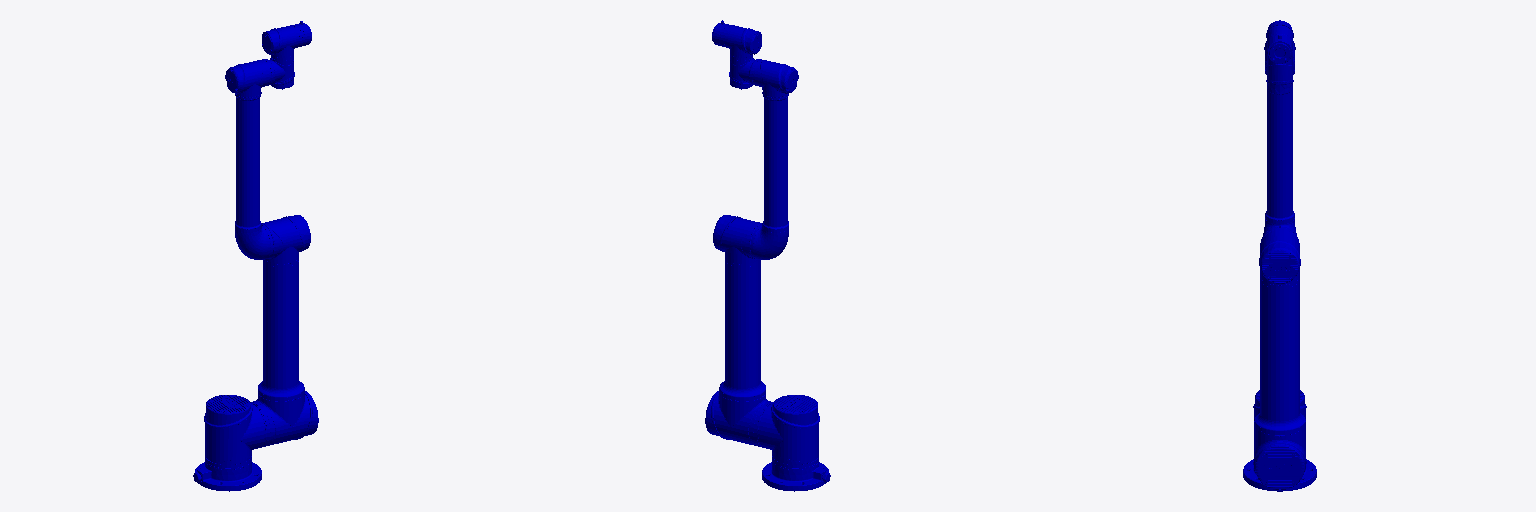
The robot description file, URDF, robot "aubo_i10":
<?xml version="1.0"?>
<robot name="aubo_i10">

  <material name="blue">
    <color rgba="0 0 0.8 1"/>
  </material>
  
  <!-- BASE -->
  <link name="base">
    <visual>
      <geometry>
        <mesh filename="package://aubo_i10_description/meshes/I10_Base.stl"/>
      </geometry>
      <material name="blue"/>
    </visual>
    <collision>
      <geometry>
        <mesh filename="package://aubo_i10_description/meshes/I10_Base.stl"/>
      </geometry>
    </collision>
  </link>

  <!-- JOINT 1 -->
  <joint name="joint1" type="revolute">
    <parent link="base"/>
    <child link="joint1_link"/>
    <origin xyz="0 0 0.05" rpy="0 0 0"/>
    <axis xyz="0 0 1"/>
    <limit lower="-3.054" upper="3.054" velocity="2.618"/>
  </joint>

  <link name="joint1_link">
    <visual>
      <geometry>
        <mesh filename="package://aubo_i10_description/meshes/I10_Joint_1.stl"/>
      </geometry>
      <material name="blue"/>
    </visual>
    <collision>
      <geometry>
        <mesh filename="package://aubo_i10_description/meshes/I10_Joint_1.stl"/>
      </geometry>
    </collision>
  </link>

  <!-- JOINT 2 -->
  <joint name="joint2" type="revolute">
    <parent link="joint1_link"/>
    <child link="joint2_link"/>
    <origin xyz="0 0 0.40" rpy="0 0 0"/>
    <axis xyz="0 1 0"/>
    <limit lower="-3.054" upper="3.054" velocity="3.142"/>
  </joint>

  <link name="joint2_link">
    <visual>
      <geometry>
        <mesh filename="package://aubo_i10_description/meshes/I10_Joint_2.stl"/>
      </geometry>
      <material name="blue"/>
    </visual>
    <collision>
      <geometry>
        <mesh filename="package://aubo_i10_description/meshes/I10_Joint_2.stl"/>
      </geometry>
    </collision>
  </link>

  <!-- JOINT 3 -->
  <joint name="joint3" type="revolute">
    <parent link="joint2_link"/>
    <child link="joint3_link"/>
    <origin xyz="0 0 0.30" rpy="0 0 0"/>
    <axis xyz="0 1 0"/>
    <limit lower="-3.054" upper="3.054" velocity="2.618"/>
  </joint>

  <link name="joint3_link">
    <visual>
      <geometry>
        <mesh filename="package://aubo_i10_description/meshes/I10_Joint_3.stl"/>
      </geometry>
      <material name="blue"/>
    </visual>
    <collision>
      <geometry>
        <mesh filename="package://aubo_i10_description/meshes/I10_Joint_3.stl"/>
      </geometry>
    </collision>
  </link>

  <!-- JOINT 4 -->
  <joint name="joint4" type="revolute">
    <parent link="joint3_link"/>
    <child link="joint4_link"/>
    <origin xyz="0 0 0.25" rpy="0 0 0"/>
    <axis xyz="1 0 0"/>
    <limit lower="-3.054" upper="3.054" velocity="3.142"/>
  </joint>

  <link name="joint4_link">
    <visual>
      <geometry>
        <mesh filename="package://aubo_i10_description/meshes/I10_Joint_4.stl"/>
      </geometry>
      <material name="blue"/>
    </visual>
    <collision>
      <geometry>
        <mesh filename="package://aubo_i10_description/meshes/I10_Joint_4.stl"/>
      </geometry>
    </collision>
  </link>

  <!-- JOINT 5 -->
  <joint name="joint5" type="revolute">
    <parent link="joint4_link"/>
    <child link="joint5_link"/>
    <origin xyz="0 0 0.20" rpy="0 0 0"/>
    <axis xyz="0 1 0"/>
    <limit lower="-3.054" upper="3.054" velocity="3.142"/>
  </joint>

  <link name="joint5_link">
    <visual>
      <geometry>
        <mesh filename="package://aubo_i10_description/meshes/I10_Joint_5.stl"/>
      </geometry>
      <material name="blue"/>
    </visual>
    <collision>
      <geometry>
        <mesh filename="package://aubo_i10_description/meshes/I10_Joint_5.stl"/>
      </geometry>
    </collision>
  </link>

  <!-- JOINT 6 -->
  <joint name="joint6" type="revolute">
    <parent link="joint5_link"/>
    <child link="joint6_link"/>
    <origin xyz="0 0 0.15" rpy="0 0 0"/>
    <axis xyz="1 0 0"/>
    <limit lower="-3.054" upper="3.054" velocity="3.142"/>
  </joint>

  <link name="joint6_link">
    <visual>
      <geometry>
        <mesh filename="package://aubo_i10_description/meshes/I10_Joint_6.stl"/>
      </geometry>
      <material name="blue"/>
    </visual>
    <collision>
      <geometry>
        <mesh filename="package://aubo_i10_description/meshes/I10_Joint_6.stl"/>
      </geometry>
    </collision>
  </link>

</robot>

--- What the picture shows (computed from the rendered views, not written in the file) ---
The picture shows the robot from 3 angles, left to right: view 1: azimuth 30°, elevation 25°; view 2: azimuth 150°, elevation 25°; view 3: azimuth 270°, elevation 25°; orthographic projection.
Model aubo_i10 with 7 links and 6 joints (6 revolute), rooted at base, posed every joint at zero.
Links seen in each view (by area): view 1: joint2_link, joint3_link, joint1_link, base, joint5_link, joint4_link; view 2: joint2_link, joint3_link, joint1_link, base, joint5_link, joint4_link; view 3: joint2_link, joint3_link, joint4_link, base, joint6_link.
Link boxes in pixels (left/top/right/bottom): joint2_link: left=250, top=215, right=318, bottom=447; joint3_link: left=225, top=59, right=274, bottom=259; joint1_link: left=204, top=395, right=265, bottom=469; base: left=193, top=462, right=261, bottom=491; joint5_link: left=262, top=24, right=304, bottom=57; joint4_link: left=269, top=54, right=294, bottom=89; joint2_link: left=705, top=215, right=773, bottom=447; joint3_link: left=749, top=59, right=798, bottom=259; joint1_link: left=758, top=395, right=819, bottom=469; base: left=762, top=462, right=830, bottom=491; joint5_link: left=719, top=24, right=761, bottom=57; joint4_link: left=729, top=54, right=754, bottom=89; joint2_link: left=1253, top=228, right=1306, bottom=489; joint3_link: left=1261, top=41, right=1298, bottom=239; joint4_link: left=1266, top=56, right=1293, bottom=94; base: left=1243, top=459, right=1316, bottom=491; joint6_link: left=1267, top=35, right=1292, bottom=63.
Size in the robot's own frame: 420 by 218 by 1564 metres.
7 mesh visuals loaded from 7 distinct referenced files (7 binary STL).